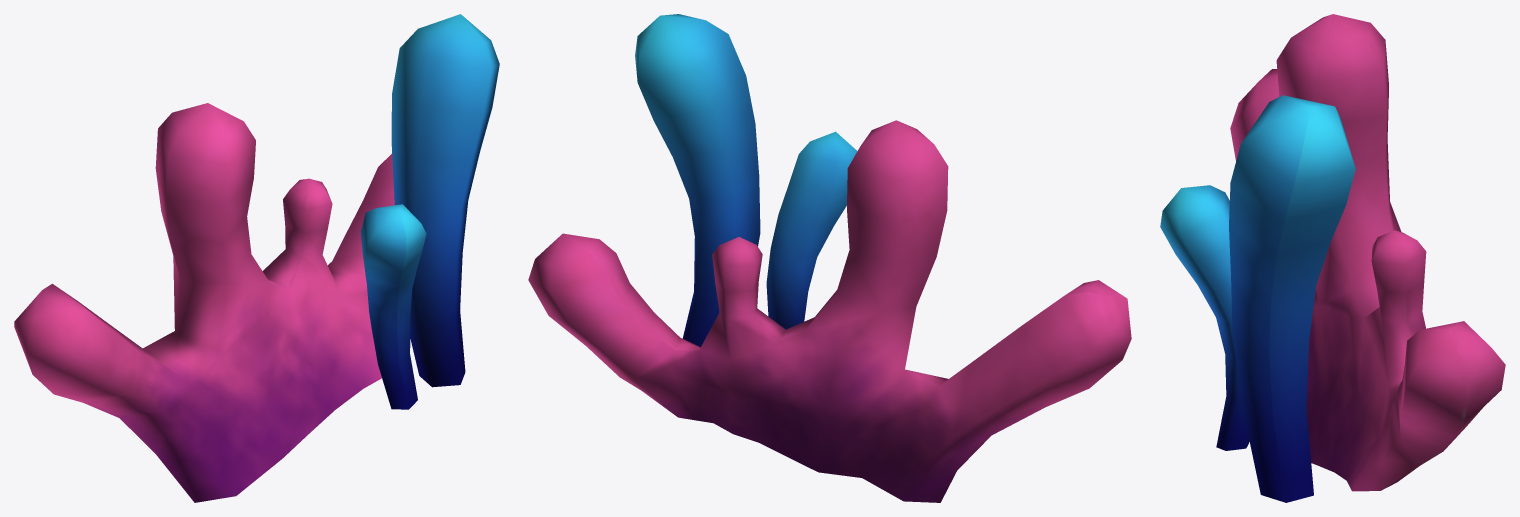
File: Cartoon Seaweed_13-2-25.fbx
The picture shows the model from 3 angles, left to right: view 1: azimuth 30°, elevation 25°; view 2: azimuth 150°, elevation 25°; view 3: azimuth 270°, elevation 25°; orthographic projection. The views are drawn at different scales.
Parts seen in each view (by area): view 1: Cartoon Seaweed_13.2.25; view 2: Cartoon Seaweed_13.2.25; view 3: Cartoon Seaweed_13.2.25.
Boxes of the visible parts, x1,y1,x2,y2 form: Cartoon Seaweed_13.2.25: (14, 14, 499, 502); Cartoon Seaweed_13.2.25: (528, 14, 1131, 502); Cartoon Seaweed_13.2.25: (1160, 14, 1505, 502).
Bounding box in the file's own units: 11.21 × 8.78 × 5.75.
Materials: 1 (1 with a texture image).
